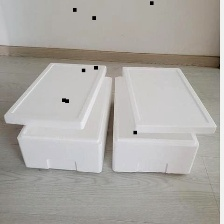foam_box: (1, 58, 113, 176), (110, 60, 218, 177)
